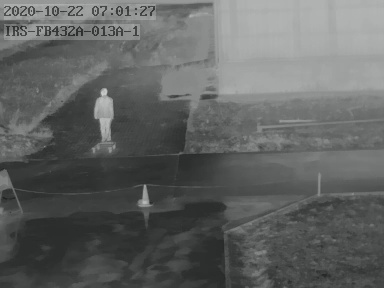person: (93, 87, 114, 141)
